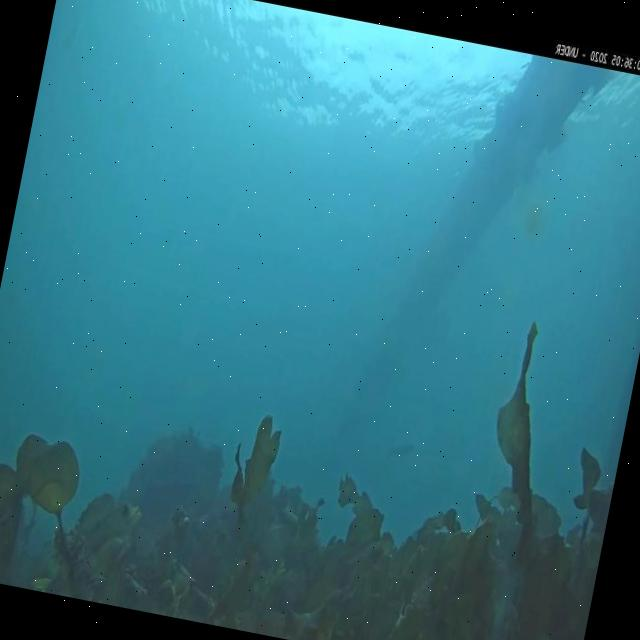fish: (382, 433, 418, 473)
